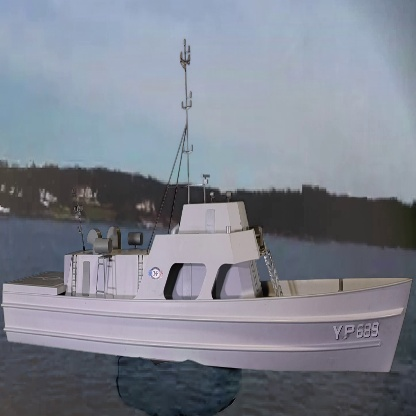YP689: (4, 38, 412, 379)
